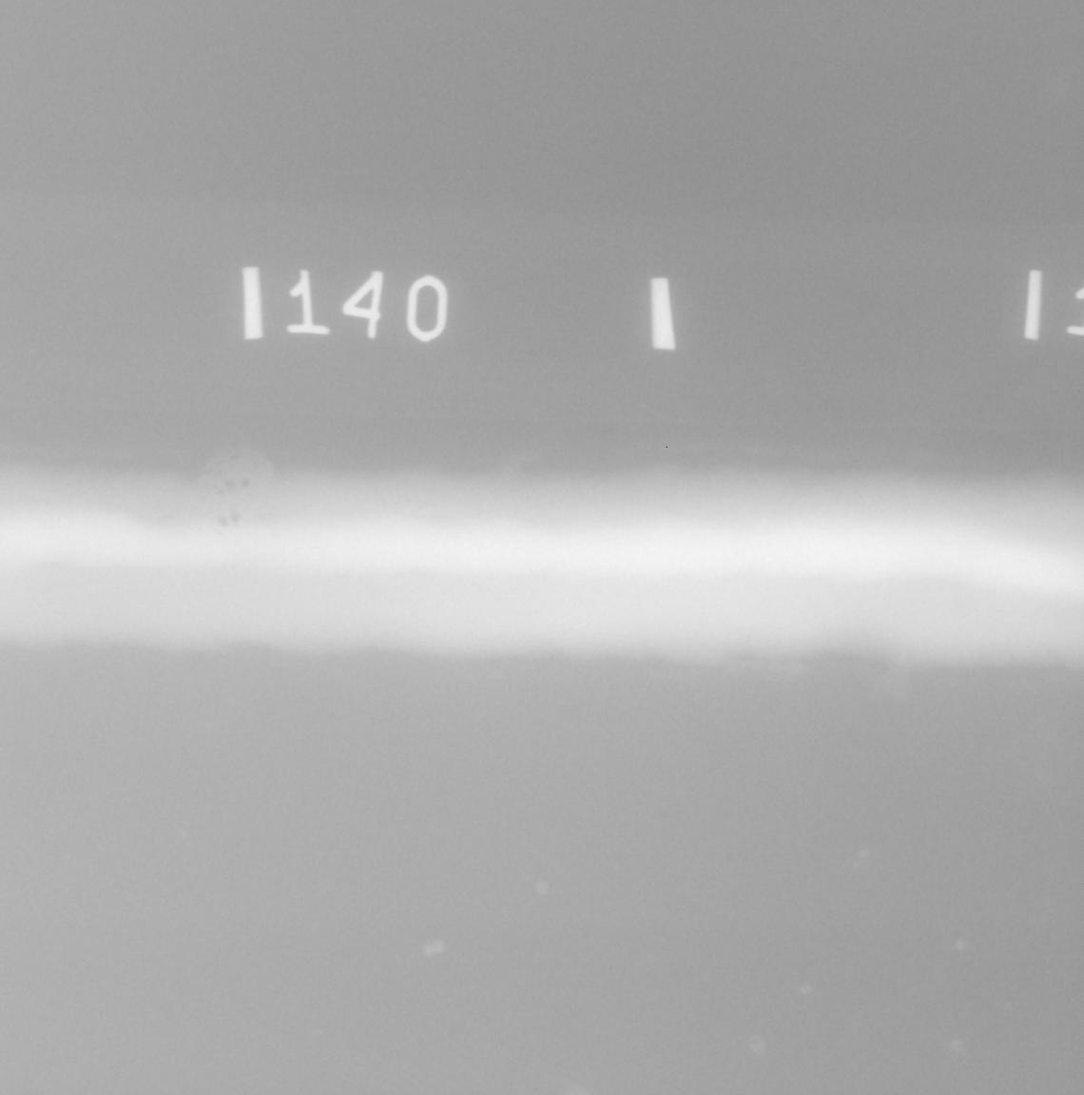Pore/Porosity: (224, 480, 237, 490), (231, 510, 241, 521), (218, 517, 228, 526), (216, 459, 226, 466), (202, 482, 210, 490), (242, 480, 250, 488), (251, 459, 258, 466), (208, 466, 214, 473), (232, 454, 239, 460), (201, 497, 207, 503), (218, 490, 224, 496), (212, 484, 219, 489), (216, 471, 221, 476)
